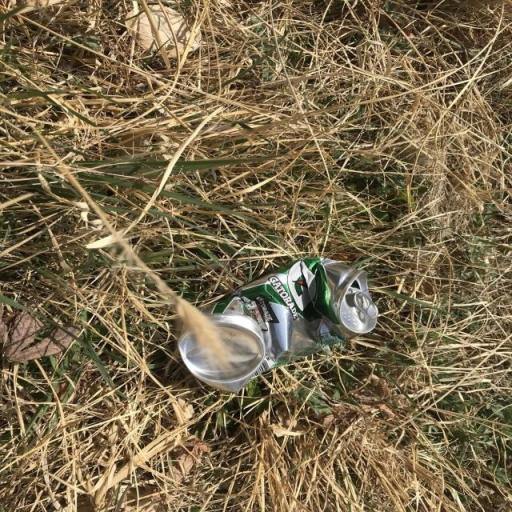metal: (122, 254, 426, 405)
